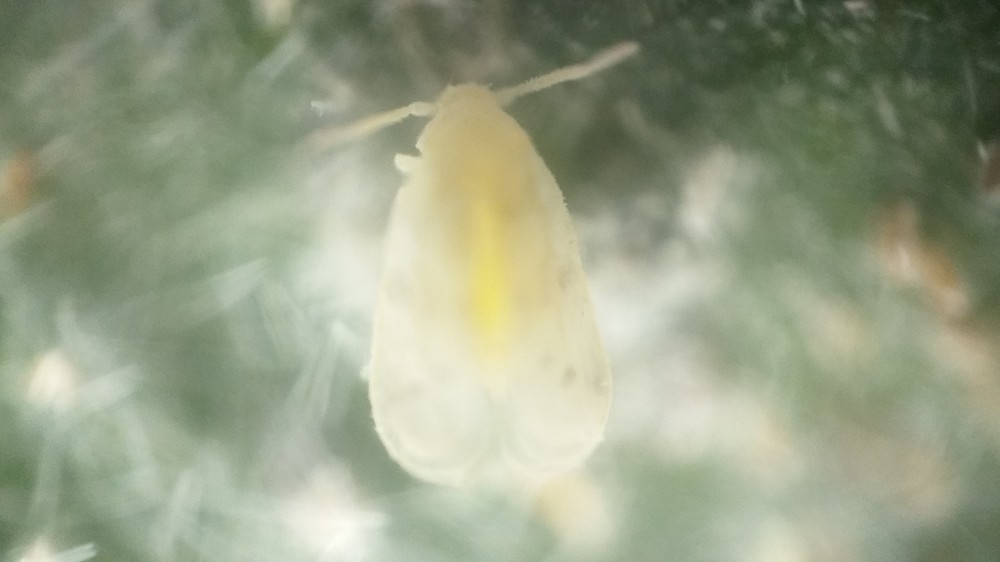Mosca Blanca: (288, 41, 669, 487)
